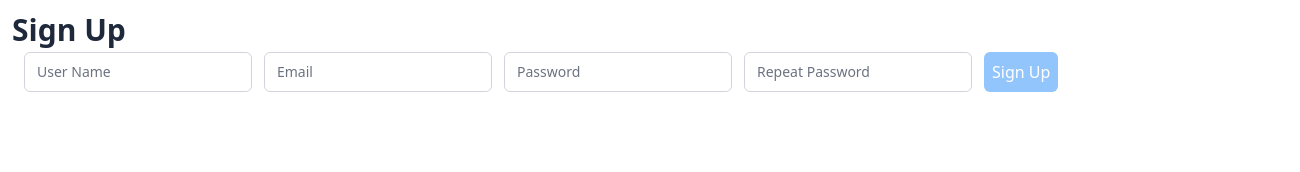
Signup page › Interactions › Displays validation message for username
The width and height of the screenshot is (1300, 172).
In the field with placeholder "User Name": (138, 72) [24, 52, 252, 92], type "user1"
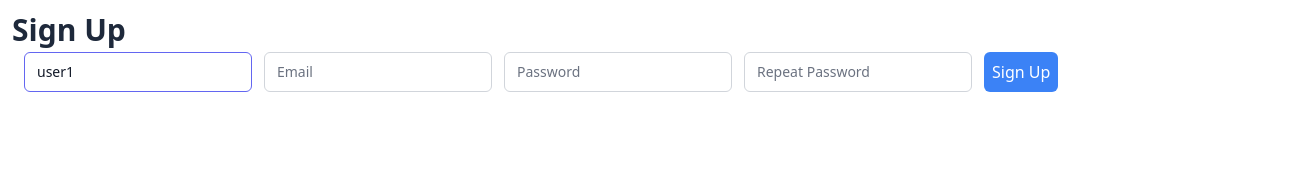
In the field with placeholder "Email": (378, 72) [264, 52, 492, 92], type "user1@gmail.com"
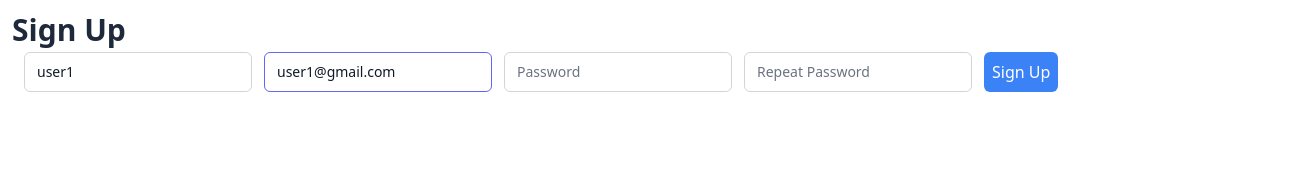
In the password field with placeholder "Password": (618, 72) [504, 52, 732, 92], type "P4ssword"
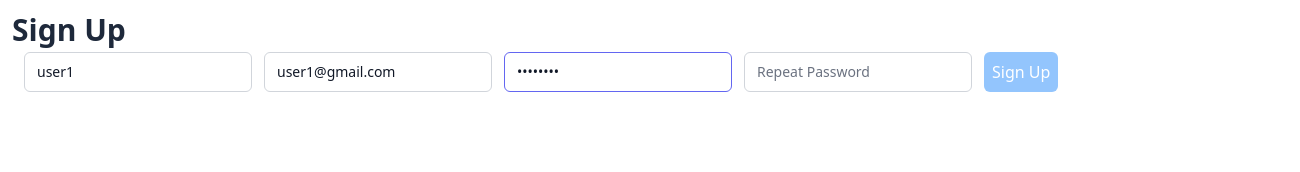
In the password field with placeholder "Repeat Password": (858, 72) [744, 52, 972, 92], type "P4ssword"
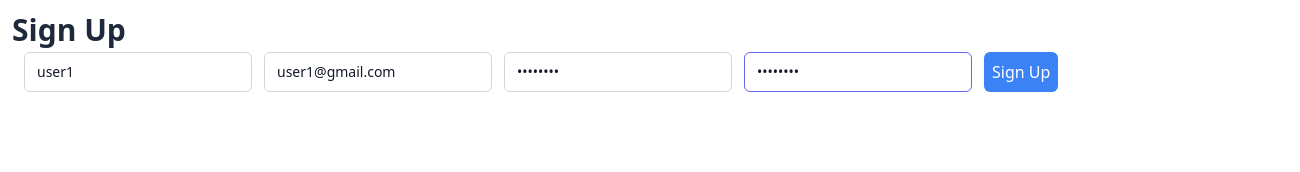
Click the button "Sign Up": (1021, 72) [984, 52, 1058, 92]
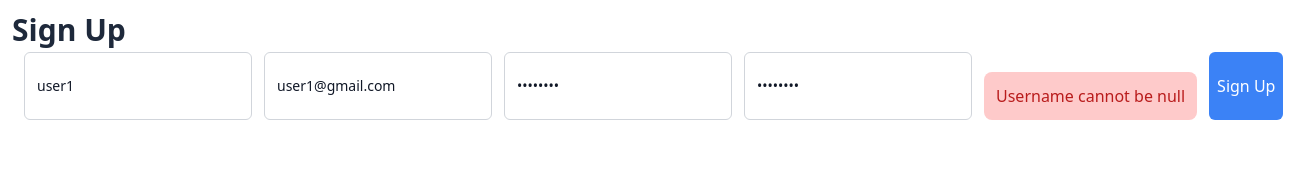
Expected: the text "Username cannot be null" is shown, [984, 72, 1197, 120]
